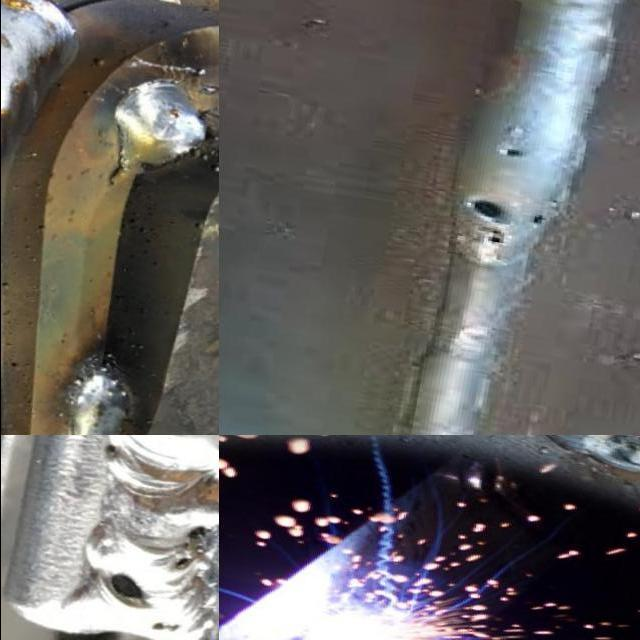defect: (100, 567, 157, 612), (166, 522, 214, 574), (464, 195, 507, 246), (604, 435, 640, 467), (521, 208, 559, 230), (495, 142, 528, 163), (102, 440, 121, 455)
